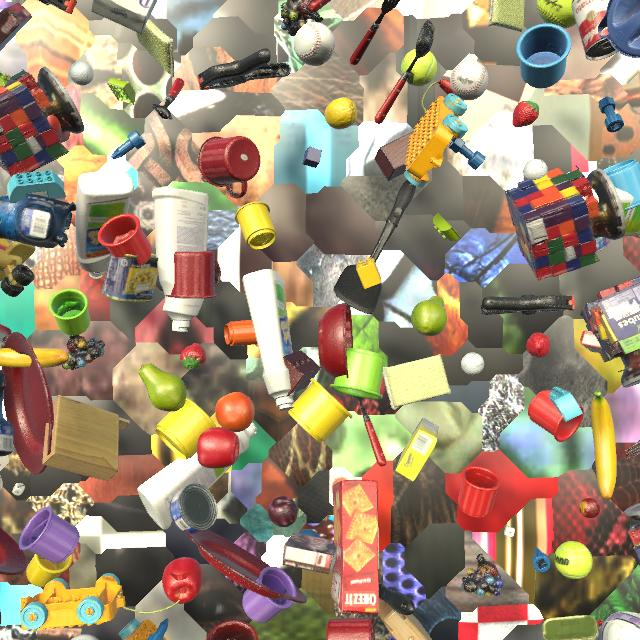ycb_003_cracker_box: (331, 479, 379, 614)
ycb_004_sugar_box: (395, 418, 439, 481), (91, 0, 157, 34)
ycb_005_tomato_soup_can: (571, 0, 618, 61)
ycb_007_tuna_fish_can: (170, 483, 217, 534), (595, 237, 610, 253)
ycb_008_pudding_box: (282, 532, 337, 575), (0, 3, 32, 51)
ycb_009_gelatin_box: (580, 330, 602, 353)
ycb_010_potted_meat_can: (102, 253, 158, 302), (542, 615, 603, 640)
ycb_011_banana: (591, 390, 617, 499), (0, 348, 69, 368)
ycb_012_strawberry: (180, 343, 206, 370), (512, 101, 539, 127), (526, 332, 550, 357)
ycb_013_apple: (162, 557, 203, 604), (197, 427, 240, 469)
ycb_014_lemon: (325, 98, 357, 129)
ycb_016_pear: (138, 363, 187, 411), (411, 296, 447, 336)
ycb_017_orange: (215, 392, 255, 432)
ycb_018_plum: (268, 496, 298, 527)
